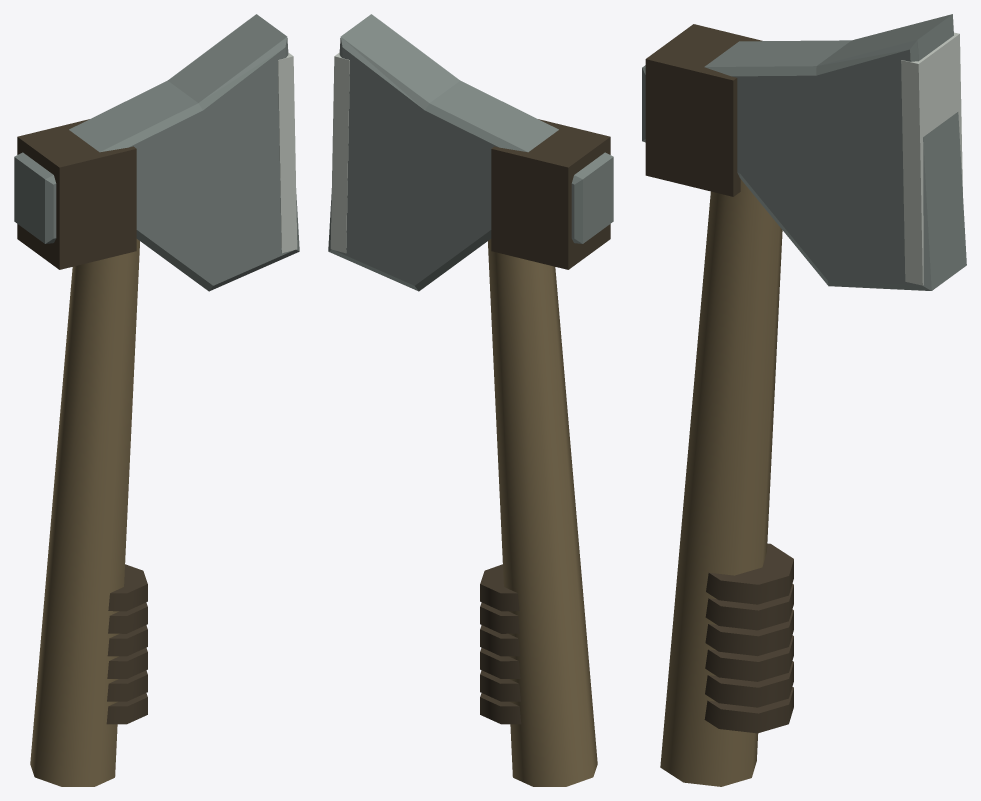
The model's file is hollowpine-field-hatchet.glb.
3 renders of one model, left to right at view 1: azimuth 30°, elevation 25°; view 2: azimuth 150°, elevation 25°; view 3: azimuth 330°, elevation 25°, orthographic. The views are drawn at different scales.
Parts seen in each view (by area): view 1: Field_hatchet, Batched_geometry; view 2: Field_hatchet, Batched_geometry; view 3: Field_hatchet, Batched_geometry.
Boxes of the visible parts, left/top/right/bottom form: Field_hatchet: left=14, top=14, right=299, bottom=786; Batched_geometry: left=17, top=119, right=147, bottom=724; Field_hatchet: left=328, top=14, right=613, bottom=786; Batched_geometry: left=480, top=119, right=610, bottom=724; Field_hatchet: left=642, top=14, right=966, bottom=786; Batched_geometry: left=645, top=24, right=793, bottom=733.
Size of the model in its own units: 0.2473 by 0.6492 by 0.076.
